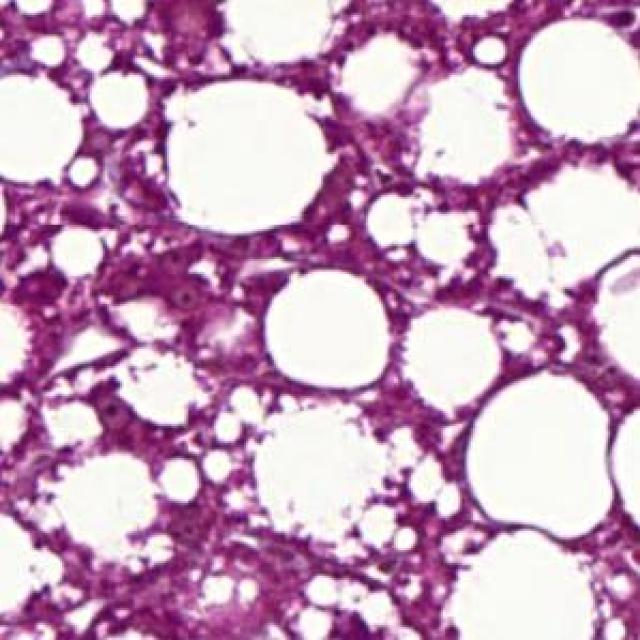steatosis: (156, 84, 336, 238), (261, 268, 390, 390), (520, 17, 640, 141)
